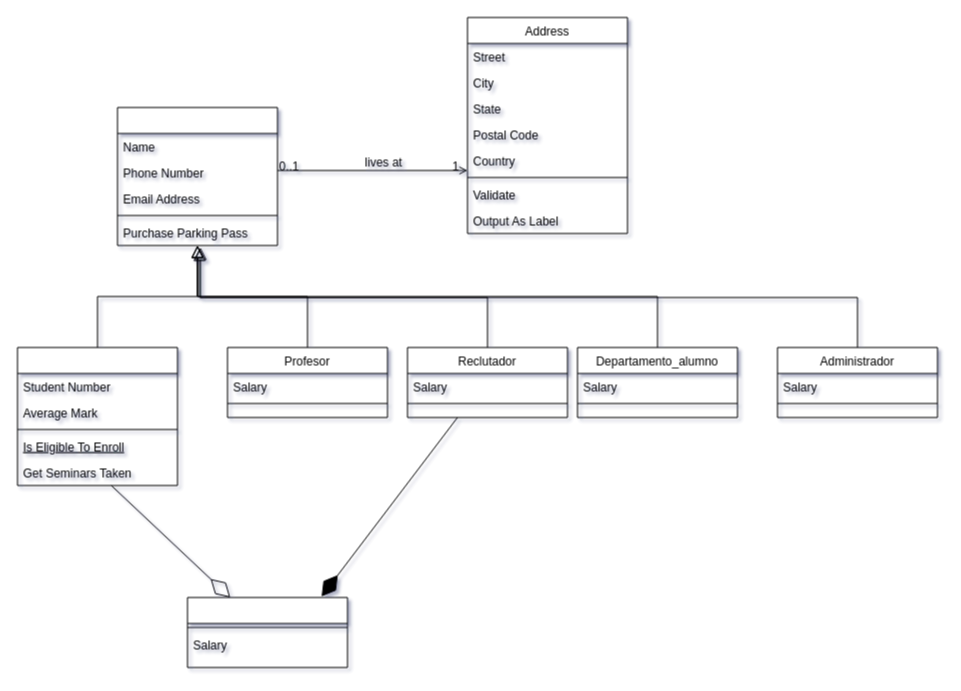
Some shapes in this 961 by 691 pixel diagram are drawn without their labels. Here are the shapes that lost their labels. From the top down, the box of each, then its label:
(116, 106, 278, 246): Persona
(16, 346, 178, 486): Alumno
(186, 596, 348, 668): Oferta_laboral
